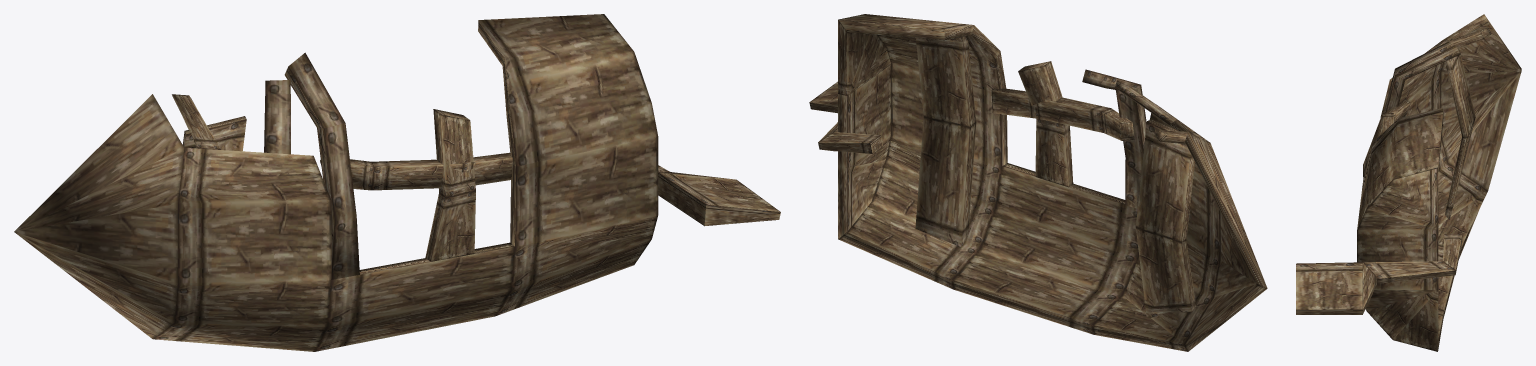
Rendered from wreckedrowboat.glb.
3 views of the same model, side by side, from view 1: azimuth 30°, elevation 25°; view 2: azimuth 150°, elevation 25°; view 3: azimuth 270°, elevation 25° (orthographic). The views are drawn at different scales.
Size of the model in its own units: 9.49 by 4.28 by 4.01.
1 material, 1 textured.
